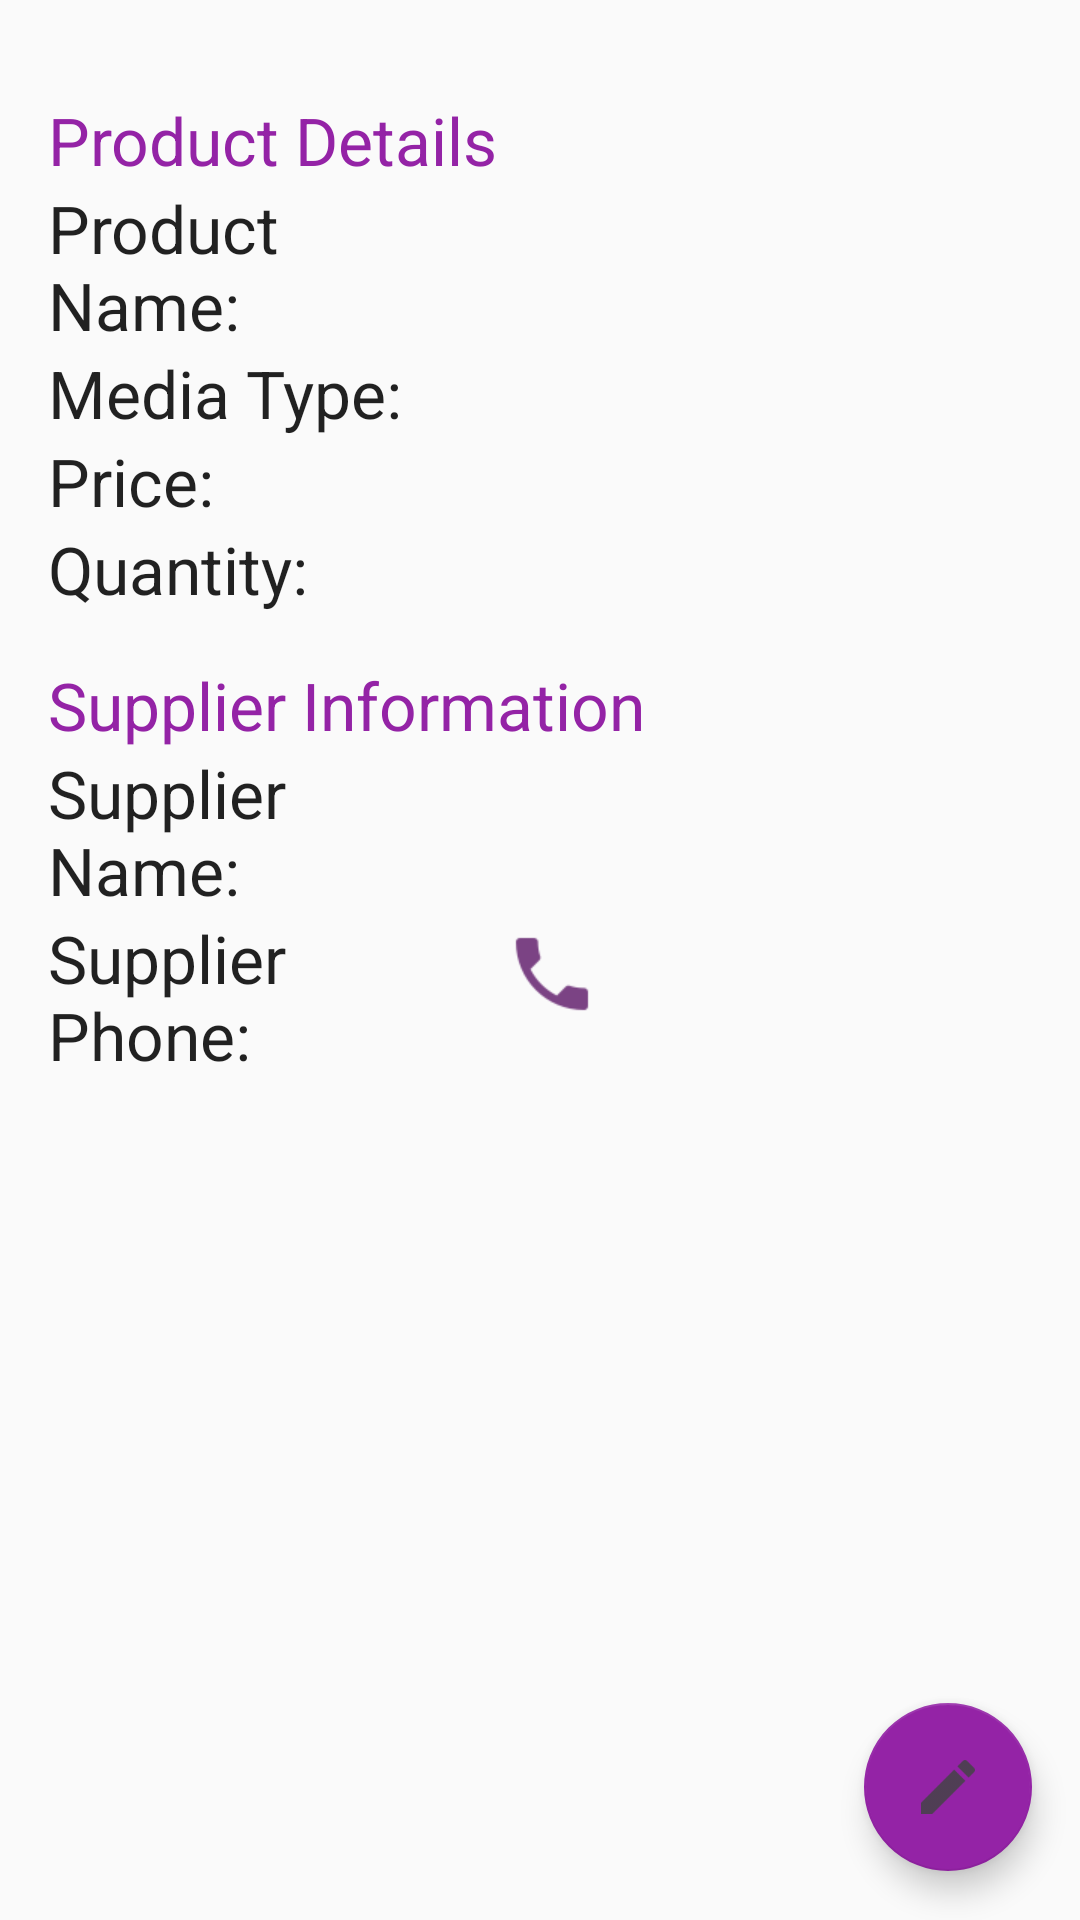

Icon bounding boxes for this 1080px×1920px phone screenshot, format rect(x1, y1, x2, y2):
edit: rect(864, 1703, 1032, 1871)
